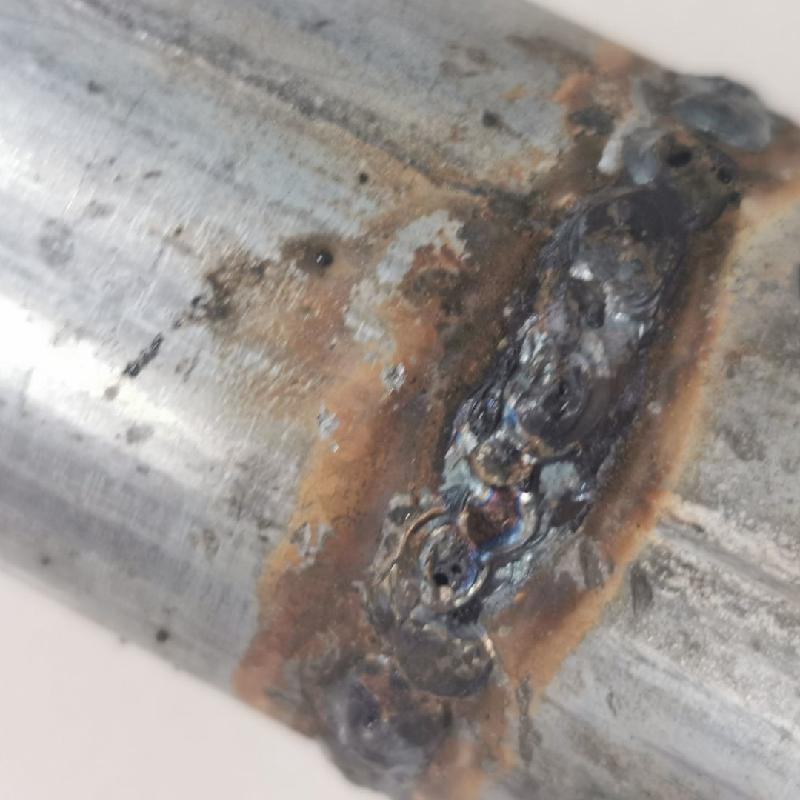Surface_pores: (638, 123, 717, 184), (426, 547, 473, 599)
crater: (411, 337, 606, 618)
wrong_size: (580, 53, 772, 335), (290, 618, 490, 780)
